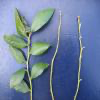Blueberry leaf: (30, 7, 57, 36), (29, 39, 54, 62), (8, 42, 26, 68), (28, 62, 52, 80), (9, 68, 27, 90), (5, 31, 27, 49), (14, 75, 32, 96)
